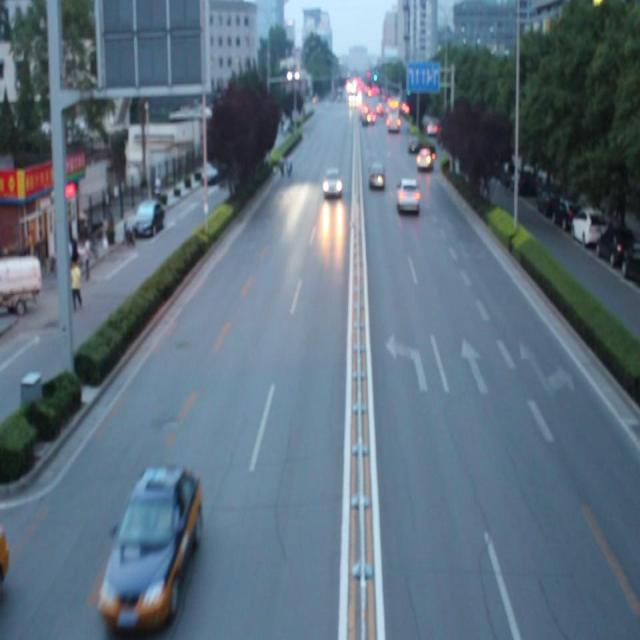car: (98, 465, 200, 611), (395, 176, 422, 215), (321, 166, 342, 198)
